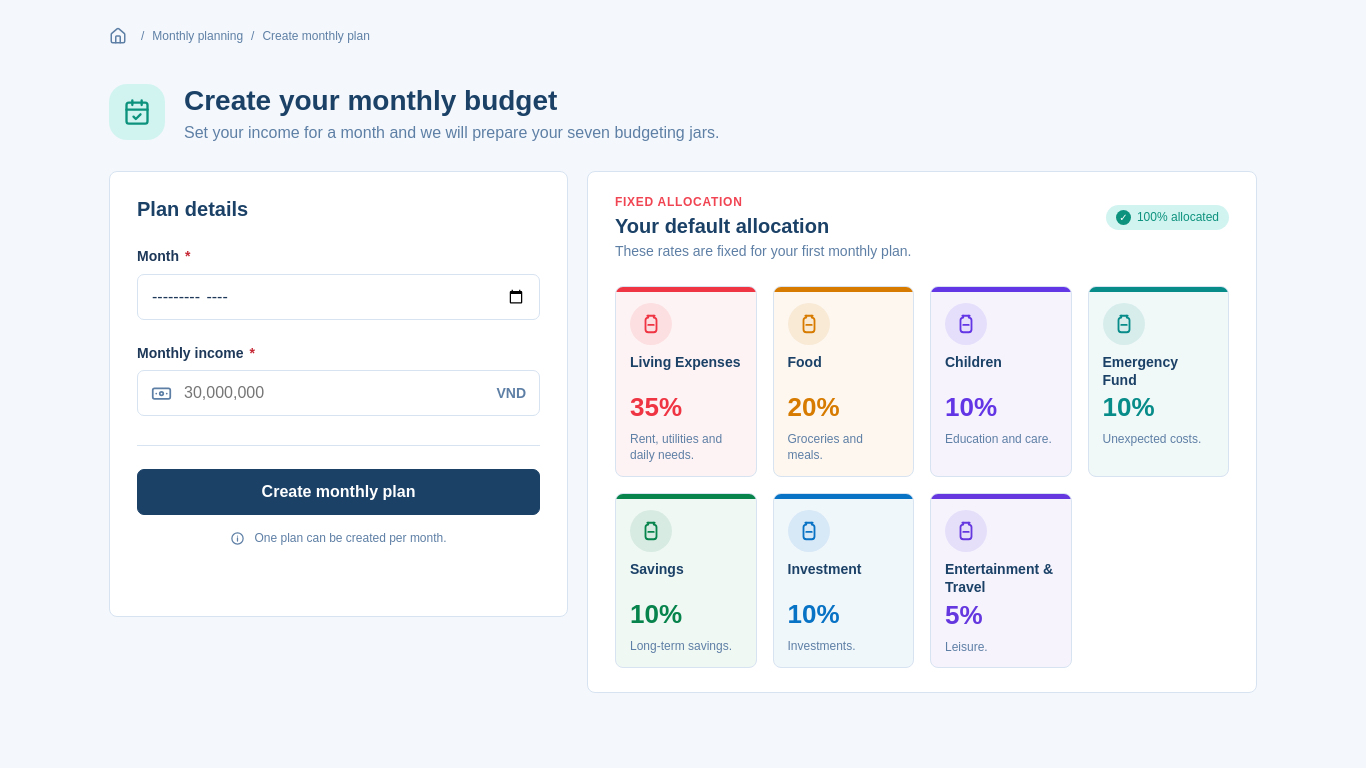
Test: MonthlyPlanningPageComponent › client validation (TC_F1_003, TC_F1_004, TC_F1_011, AC3) › rejects an empty form with both messages, aria links, status text and focus on Month
Click the button "Create monthly plan" at [338, 492], box [137,469,540,515]
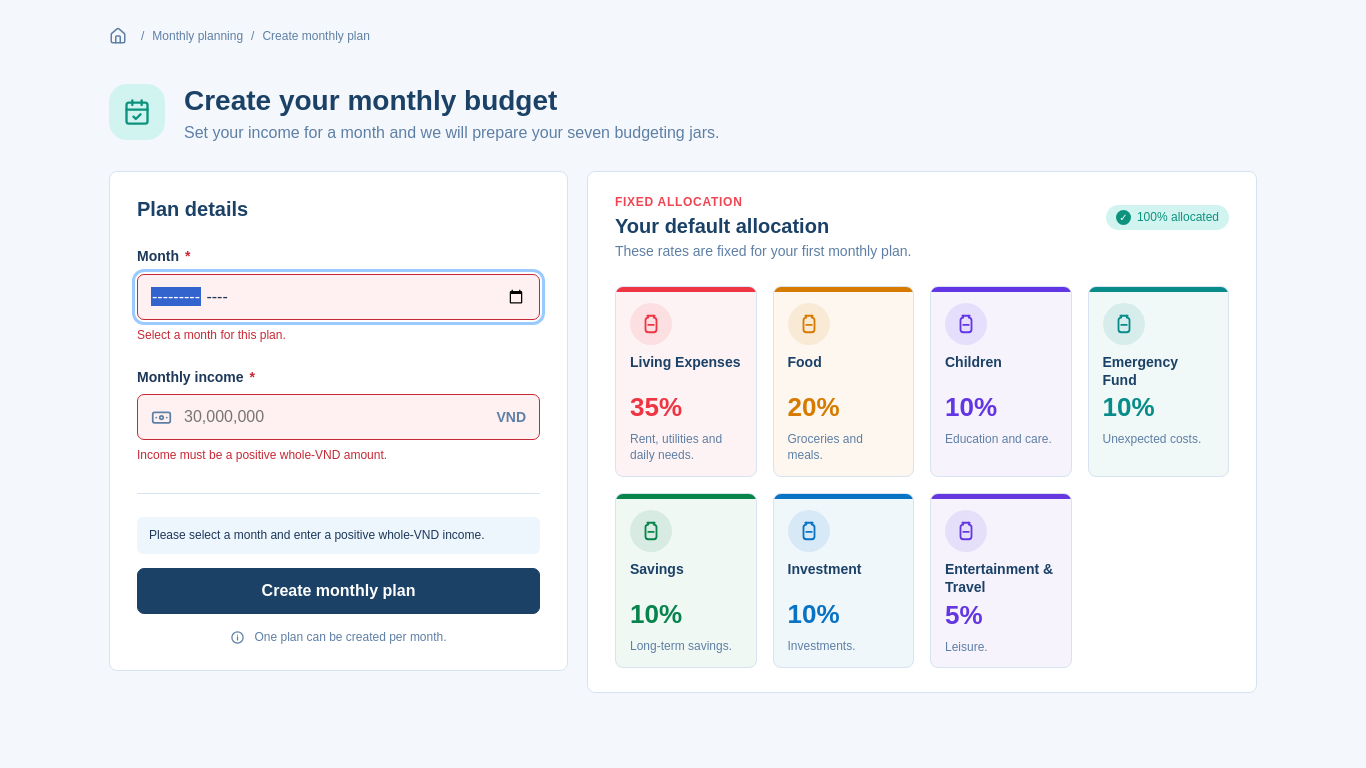
Now the message "Select a month for this plan." is shown, box [137,328,286,342]
Now the message with id "income-error" reads "Income must be a positive whole-VND amount.", box [137,448,387,462]
Now the text "Please select a month and enter a positive whole-VND income." is shown, box [137,517,540,554]
